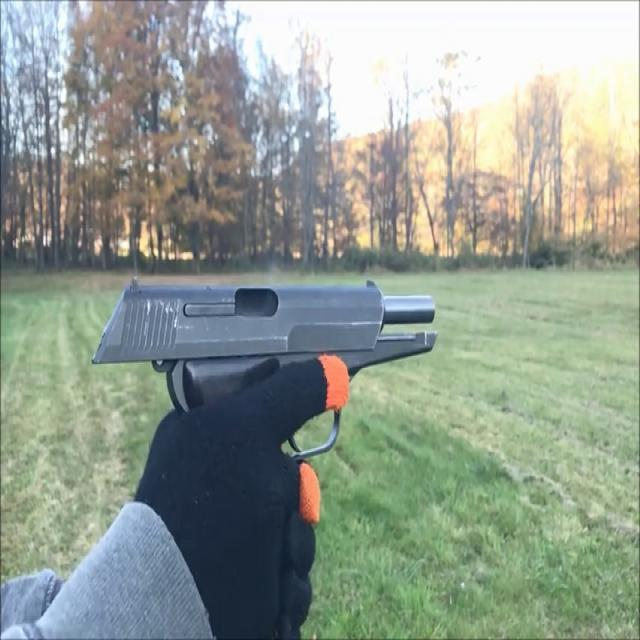gun-knife-thesis - v11 Yolov5 augmented: (66, 252, 458, 604)
